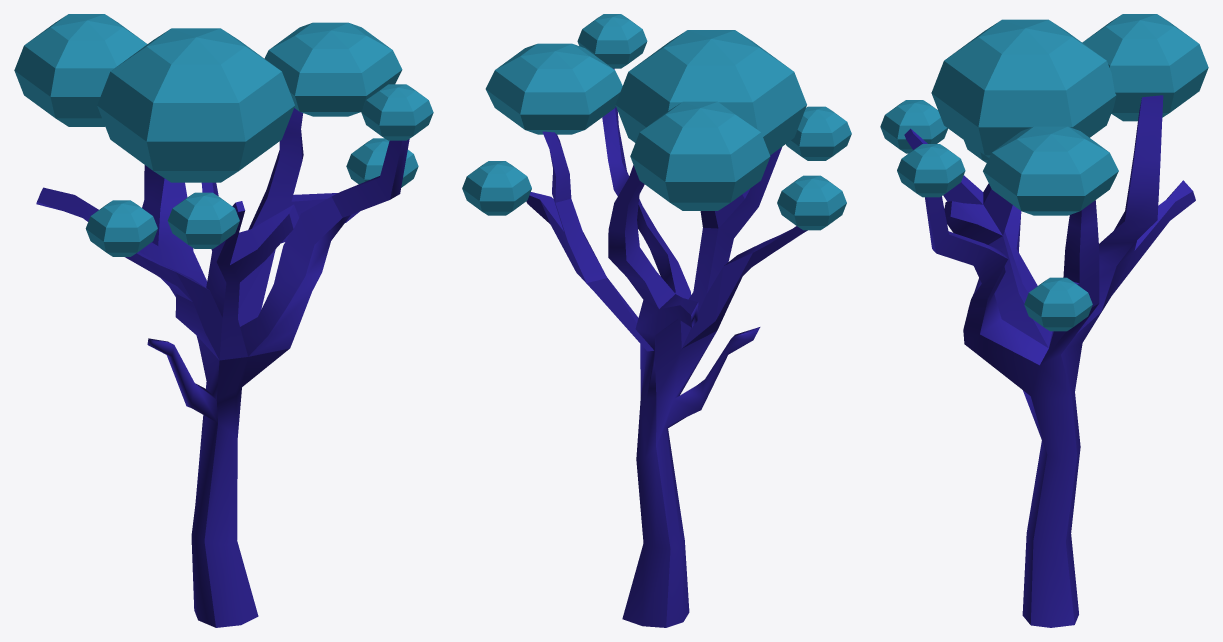
The model's file is arbolNoche3.fbx.
The picture shows the model from 3 angles, left to right: view 1: azimuth 30°, elevation 25°; view 2: azimuth 150°, elevation 25°; view 3: azimuth 270°, elevation 25°; orthographic projection. The views are drawn at different scales.
Parts seen in each view (by area): view 1: pCube1, Sphere.002, Sphere.007, Sphere.001, Sphere.005, Sphere.006, Sphere.008, Sphere.009; view 2: pCube1, Sphere.002, Sphere.007, Sphere.001, Sphere.005, Sphere.009, Sphere.008, Sphere.006; view 3: pCube1, Sphere.002, Sphere.001, Sphere.007, Sphere.009, Sphere.008, Sphere.006.
Part boxes in pixels (x1,y1,x2,y2): pCube1: [36, 108, 409, 627]; Sphere.002: [97, 28, 294, 182]; Sphere.007: [14, 14, 147, 126]; Sphere.001: [264, 22, 402, 116]; Sphere.005: [85, 200, 157, 256]; Sphere.006: [167, 192, 239, 248]; Sphere.008: [361, 84, 433, 140]; Sphere.009: [346, 138, 418, 187]; pCube1: [526, 68, 807, 627]; Sphere.002: [615, 30, 806, 155]; Sphere.007: [630, 101, 770, 210]; Sphere.001: [485, 43, 622, 134]; Sphere.005: [777, 175, 846, 230]; Sphere.009: [462, 161, 531, 215]; Sphere.008: [577, 14, 647, 68]; Sphere.006: [786, 106, 851, 160]; pCube1: [904, 95, 1195, 627]; Sphere.002: [931, 19, 1116, 157]; Sphere.001: [983, 126, 1118, 215]; Sphere.007: [1082, 14, 1208, 121]; Sphere.009: [1024, 277, 1092, 331]; Sphere.008: [897, 144, 965, 197]; Sphere.006: [880, 100, 947, 153].
Bounding box in the file's own units: 142 × 234 × 123.
